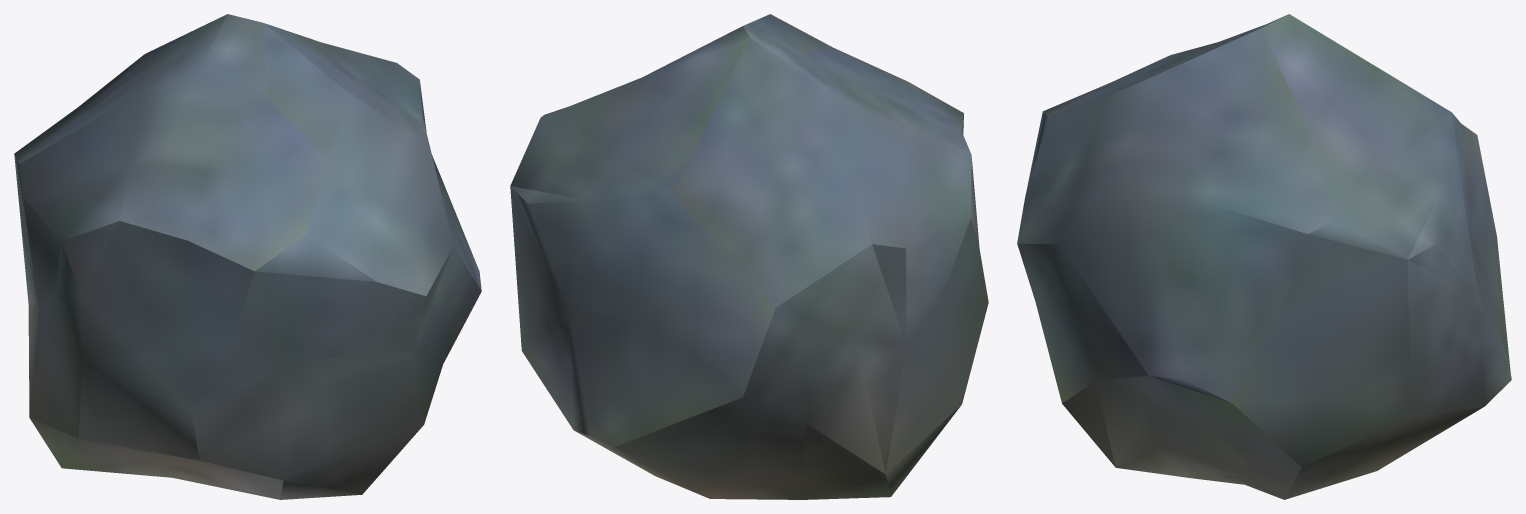
Rendered from basalto_suelto.glb.
The picture shows the model from 3 angles, left to right: view 1: azimuth 30°, elevation 25°; view 2: azimuth 150°, elevation 25°; view 3: azimuth 270°, elevation 25°; orthographic projection. The views are drawn at different scales.
Visible parts, largest first — view 1: basalto_suelto_malla; view 2: basalto_suelto_malla; view 3: basalto_suelto_malla.
Boxes of the visible parts, x1,y1,x2,y2 form: basalto_suelto_malla: (14,14,481,499); basalto_suelto_malla: (510,14,988,499); basalto_suelto_malla: (1017,14,1511,499).
Size of the model in its own units: 0.0646 by 0.0639 by 0.0664.
Materials: 1 (1 with a texture image).
